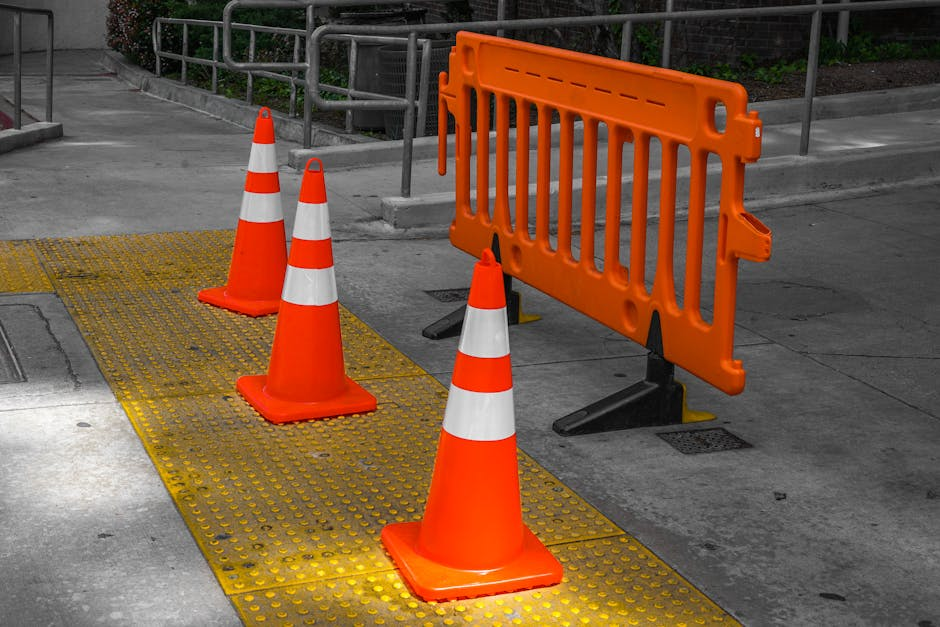traffic_cone: (379, 247, 564, 603), (235, 156, 378, 424), (197, 105, 289, 318)
